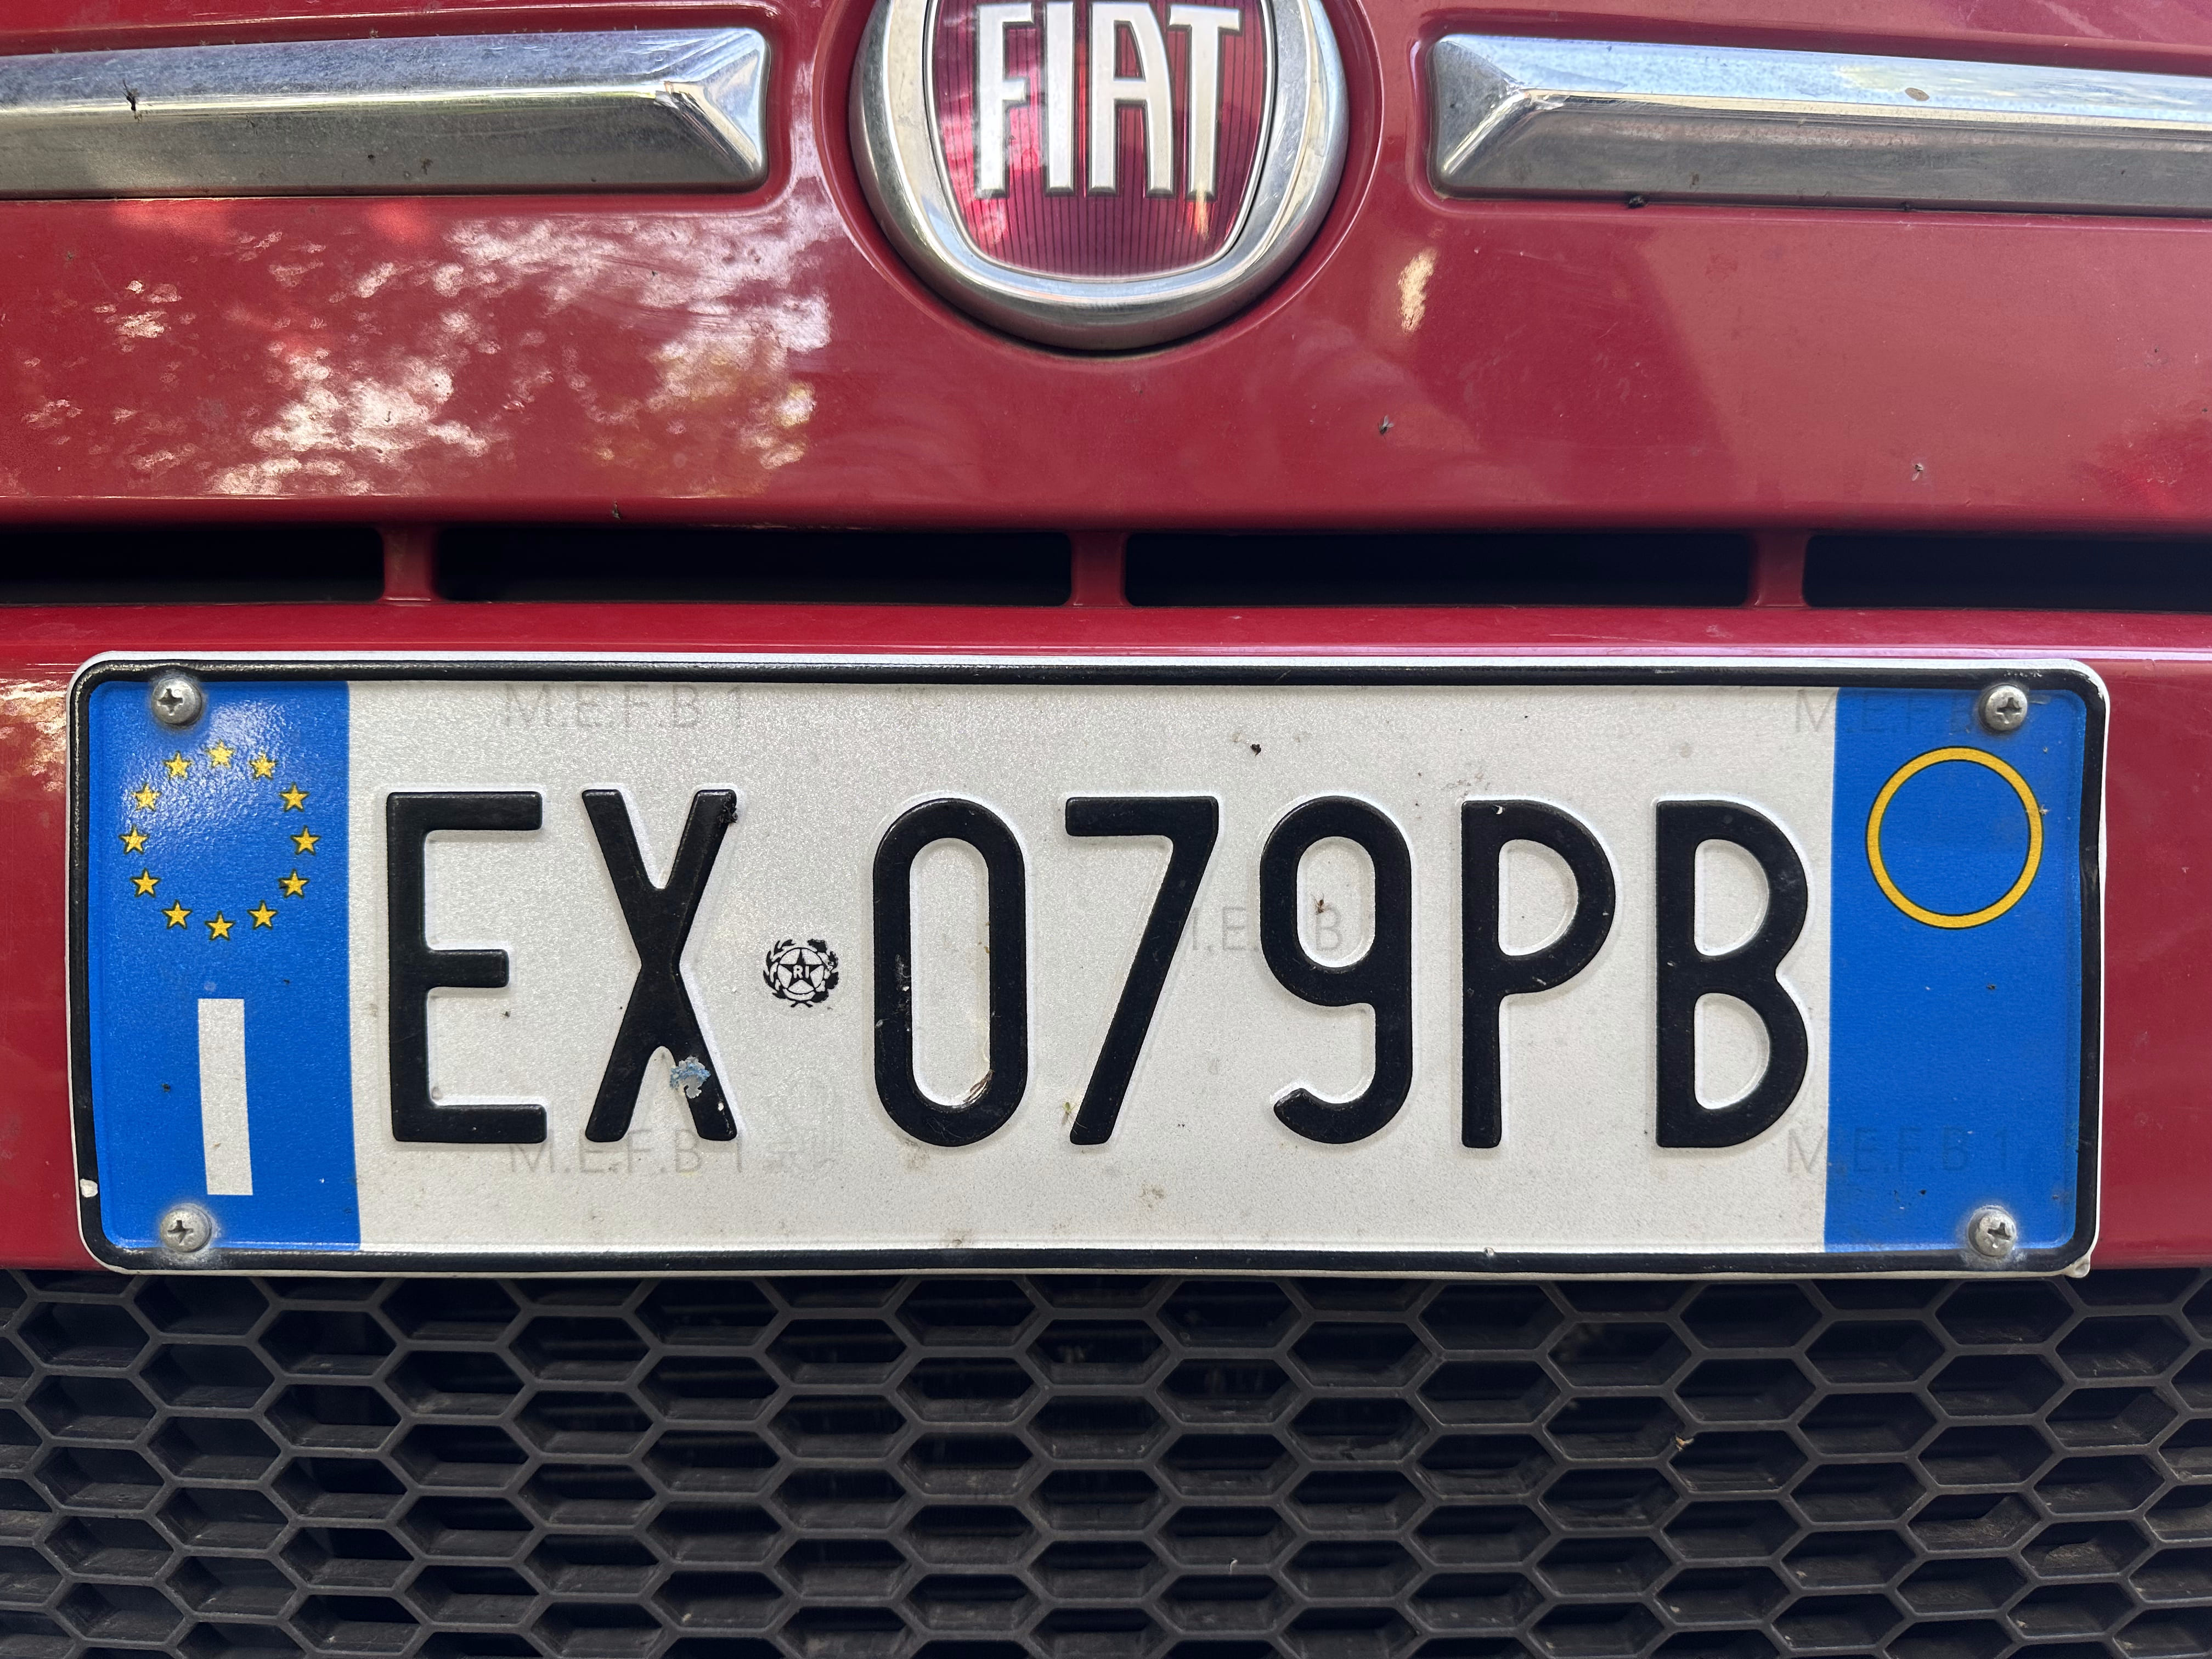license-plate: (63, 650, 2104, 1282)
